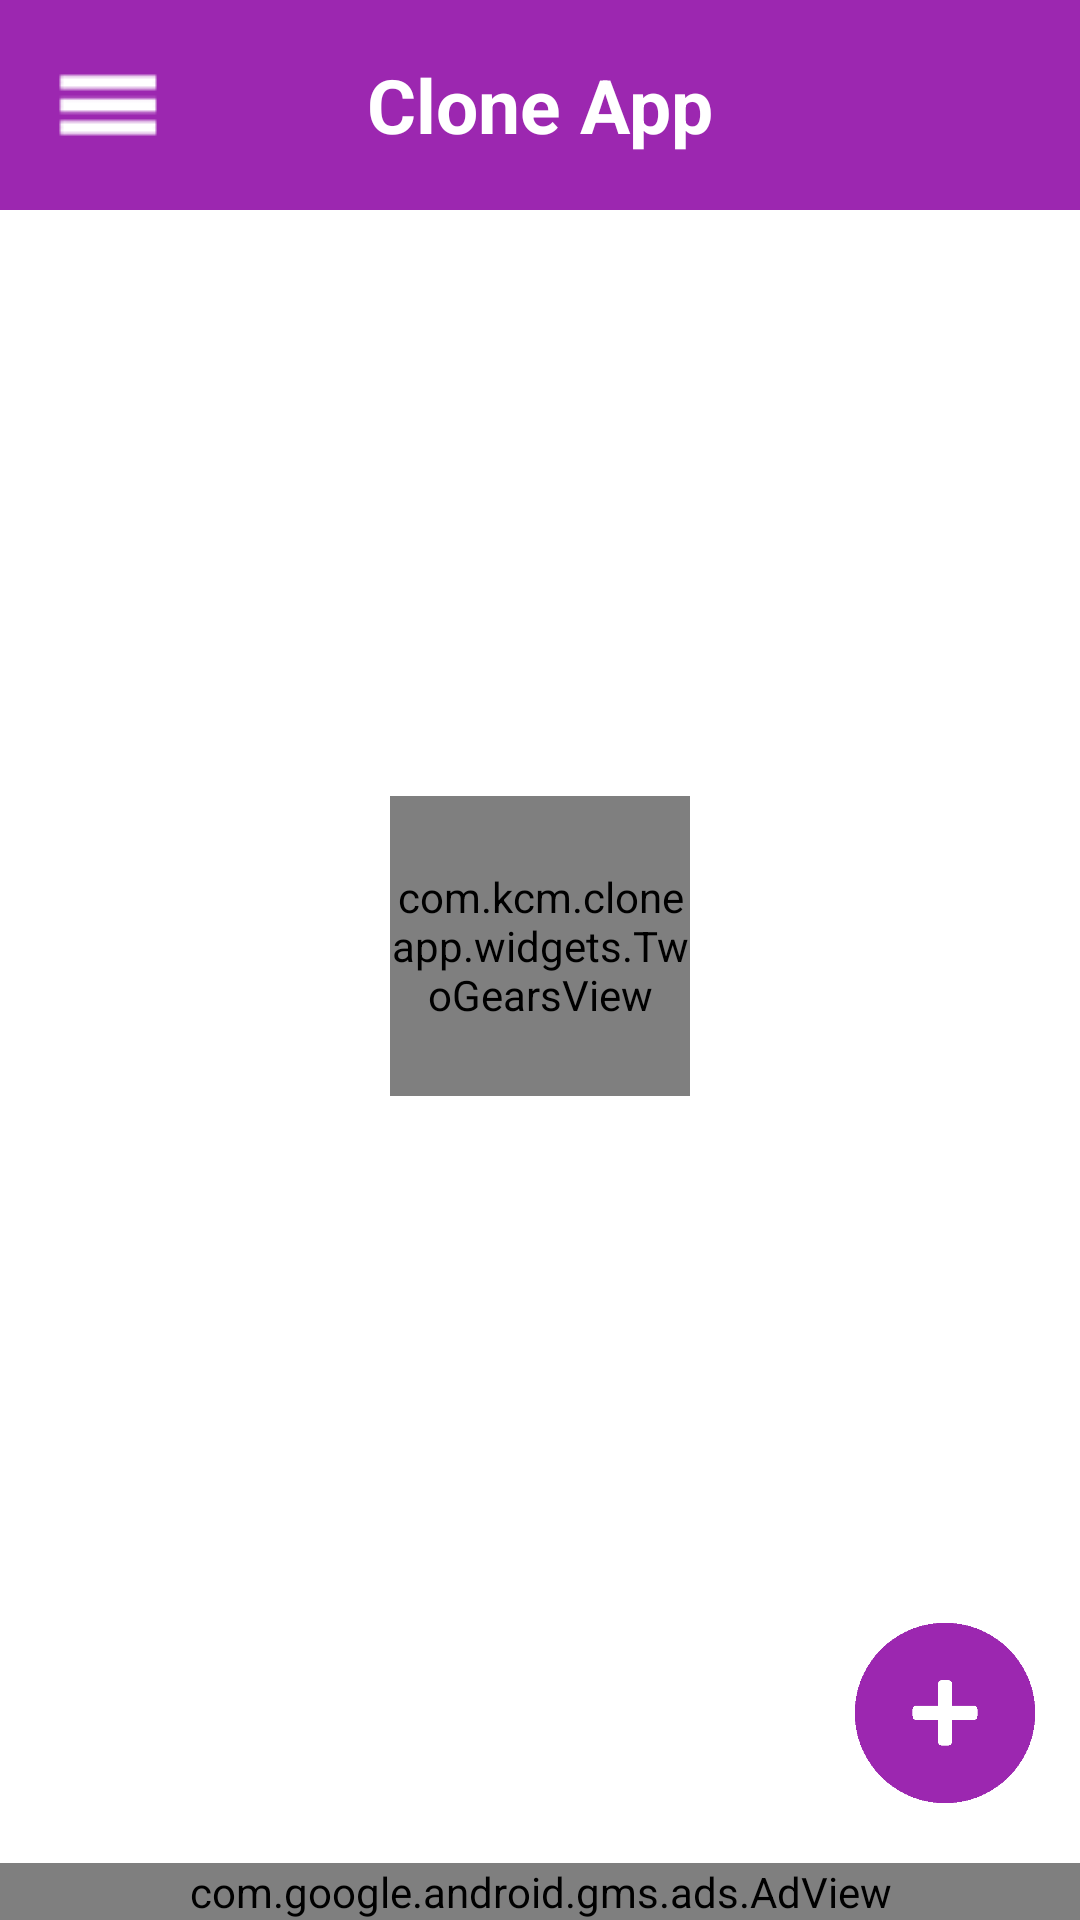

Icon bounding boxes for this 1080w x 1920h phone screenshot, format (x1, y1, x2, y2):
menu: (59, 74, 157, 136)
plus: (855, 1623, 1035, 1803)
